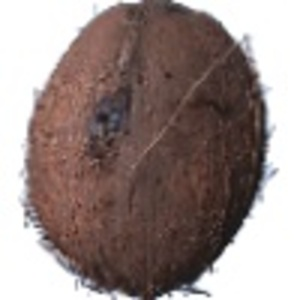coco: (21, 1, 277, 300)
